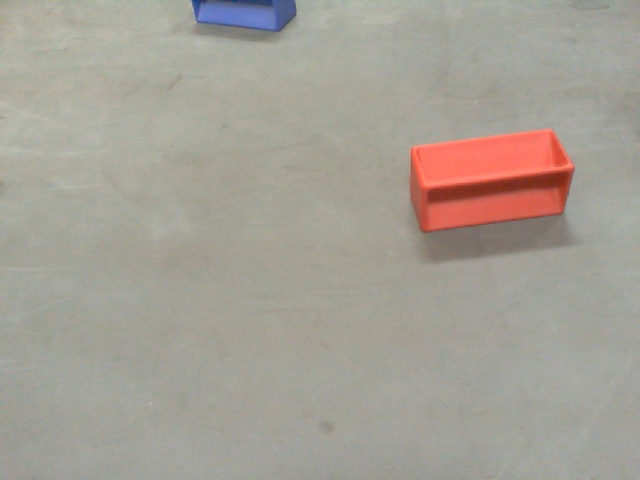BlueSample: (190, 1, 298, 35)
RedSample: (407, 127, 577, 236)
